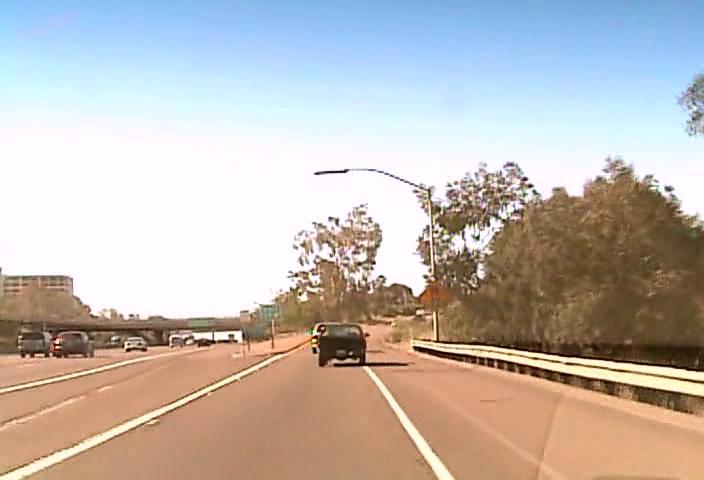signalAhead: (417, 279, 454, 313)
